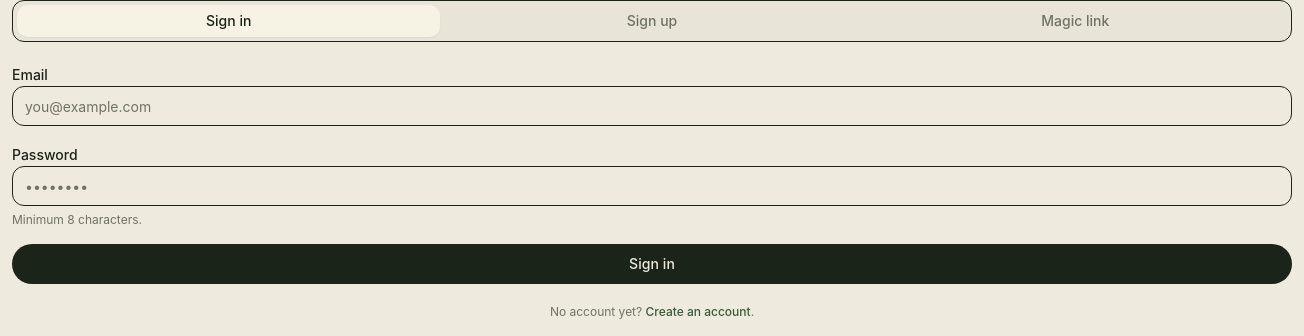
Scenario: SignInForm › Magic link tab hides the password field
Step 1. Click the tab "Magic link" → (1075, 21), box [864,5,1287,37]
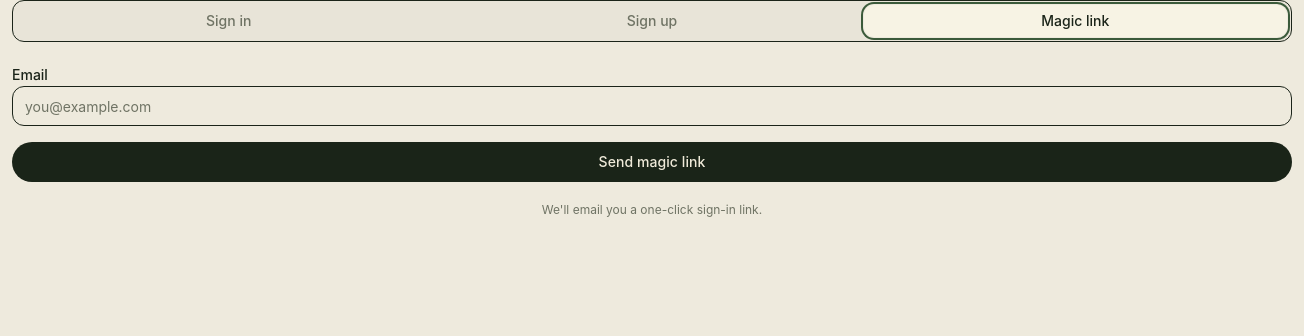
Now the label labelled "Password" is gone
Now the button "Send magic link" is shown, box [12,142,1292,182]
